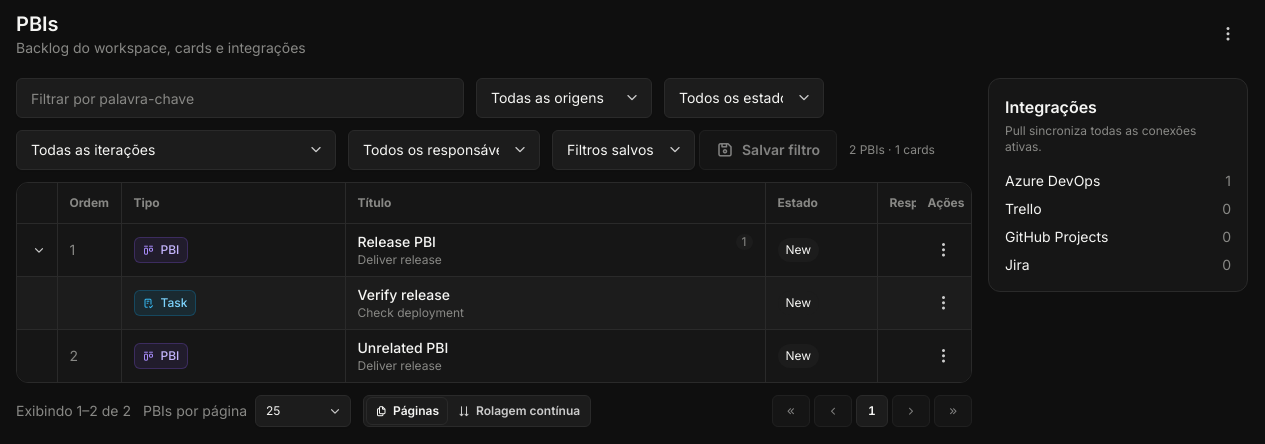
PbiView › filters imported cards by source and iteration while keeping their parent visible
Expected: the text "Unrelated PBI" is shown, top-left (358, 338), bottom-right (448, 358)
Select "Azure DevOps" in the dropdown named "Origem" at (564,98), box top-left (476, 78), bottom-right (652, 118)
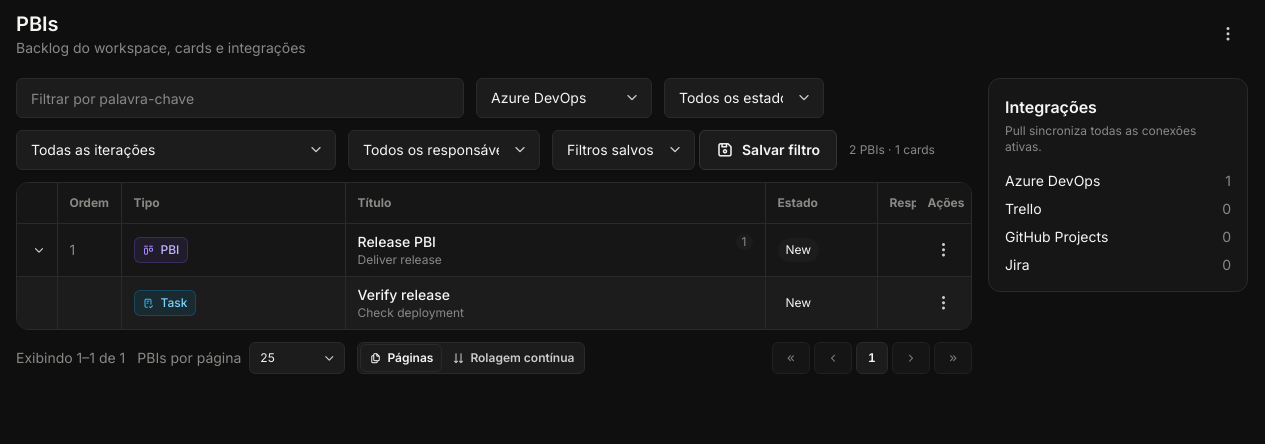
Expected: the text "Release PBI" is shown, top-left (358, 232), bottom-right (436, 252)
Expected: the button "Unrelated PBI" is gone
Select "Sprint 190" in the dropdown named "Iteração" at (176,150), box top-left (16, 130), bottom-right (336, 170)
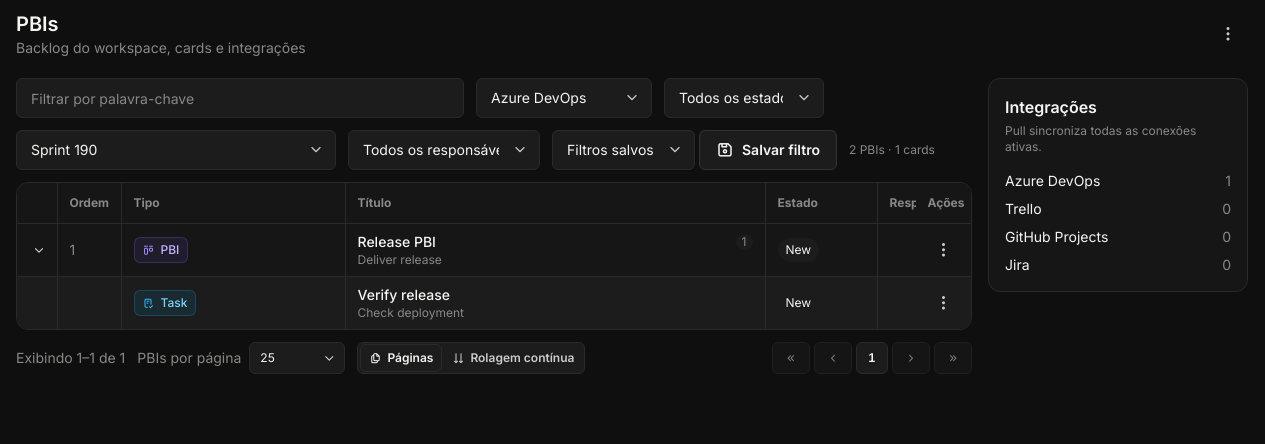
Click the button named "Recolher Release PBI" at (39,250), box top-left (25, 236), bottom-right (53, 264)
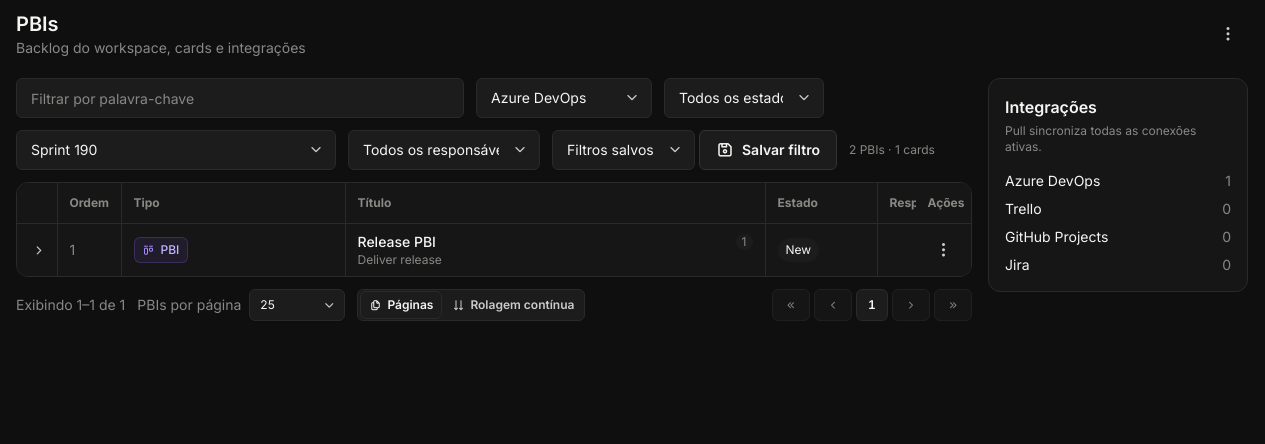
Expected: the text "Release PBI" is shown, top-left (358, 232), bottom-right (436, 252)
Expected: the button "Verify release" is gone
Click the button named "Expandir Release PBI" at (39,250), box top-left (25, 236), bottom-right (53, 264)
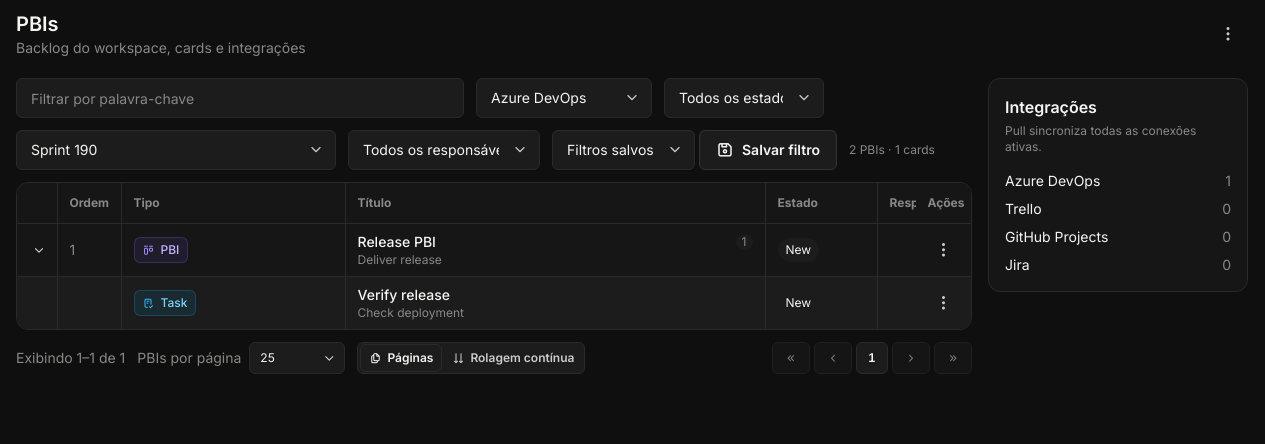
Expected: the text "Verify release" is shown, top-left (358, 285), bottom-right (450, 305)
